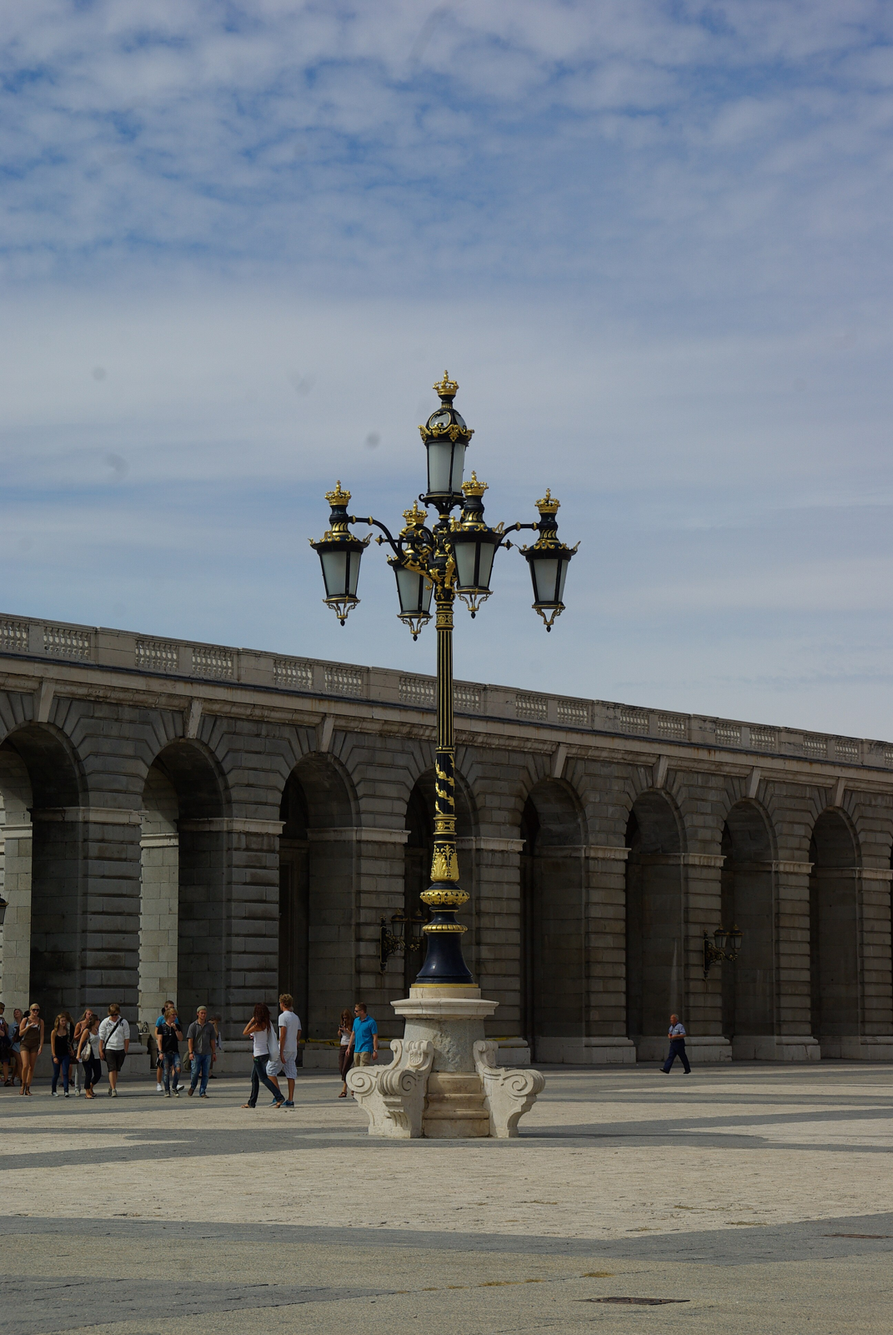fachada: (0, 597, 893, 1093)
poste: (300, 388, 642, 1139)
